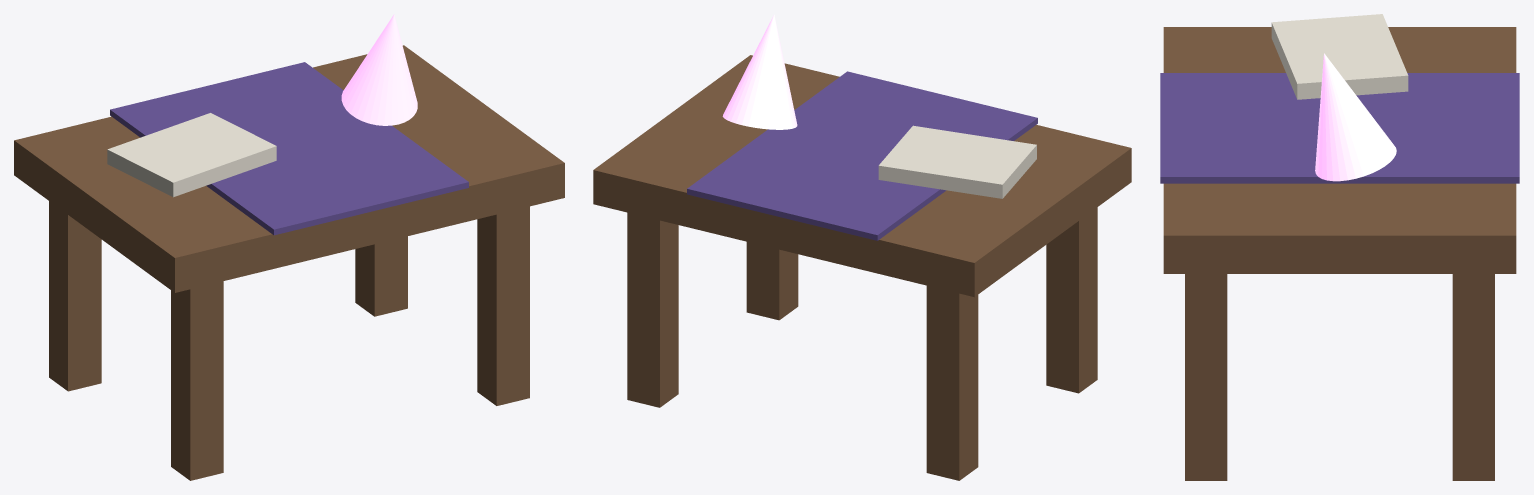
The model's file is enchanter_table.glb.
The picture shows the model from 3 angles, left to right: view 1: azimuth 30°, elevation 25°; view 2: azimuth 150°, elevation 25°; view 3: azimuth 270°, elevation 25°; orthographic projection. The views are drawn at different scales.
Parts seen in each view (by area): view 1: Cube, Cube.005, Cube.001, Cube.002, Cube.003, Cube.006, FloatingCrystal, Cube.004; view 2: Cube, Cube.005, Cube.003, Cube.004, Cube.001, Cube.006, FloatingCrystal, Cube.002; view 3: Cube, Cube.005, Cube.002, Cube.004, Cube.006, FloatingCrystal.
Part boxes in pixels (x1=…): Cube: x1=14, y1=45, x2=564, y2=292; Cube.005: x1=110, y1=62, x2=468, y2=235; Cube.001: x1=171, y1=281, x2=223, y2=480; Cube.002: x1=477, y1=206, x2=529, y2=405; Cube.003: x1=49, y1=201, x2=101, y2=391; Cube.006: x1=107, y1=113, x2=276, y2=197; FloatingCrystal: x1=341, y1=14, x2=417, y2=125; Cube.004: x1=355, y1=236, x2=407, y2=316; Cube: x1=593, y1=55, x2=1131, y2=297; Cube.005: x1=687, y1=71, x2=1037, y2=240; Cube.003: x1=926, y1=285, x2=978, y2=480; Cube.004: x1=627, y1=212, x2=678, y2=407; Cube.001: x1=1046, y1=207, x2=1097, y2=393; Cube.006: x1=878, y1=125, x2=1036, y2=198; FloatingCrystal: x1=722, y1=14, x2=797, y2=129; Cube.002: x1=746, y1=242, x2=798, y2=320; Cube: x1=1163, y1=27, x2=1516, y2=273; Cube.005: x1=1160, y1=73, x2=1519, y2=183; Cube.002: x1=1185, y1=274, x2=1227, y2=480; Cube.004: x1=1452, y1=274, x2=1494, y2=480; Cube.006: x1=1271, y1=14, x2=1408, y2=99; FloatingCrystal: x1=1315, y1=53, x2=1396, y2=181.
Size of the model in its own units: 1.4 by 1.22 by 1.02.
